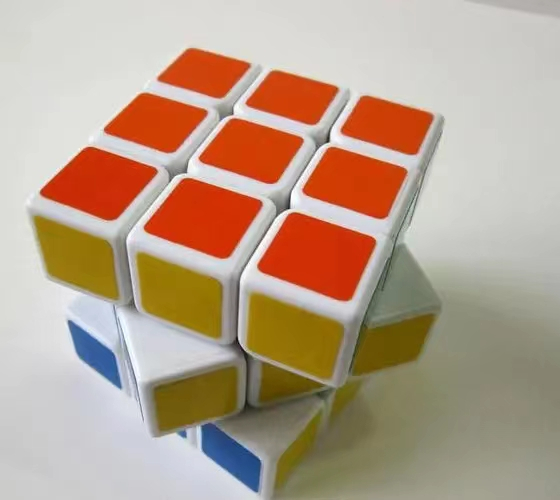cube: (24, 44, 449, 500)
